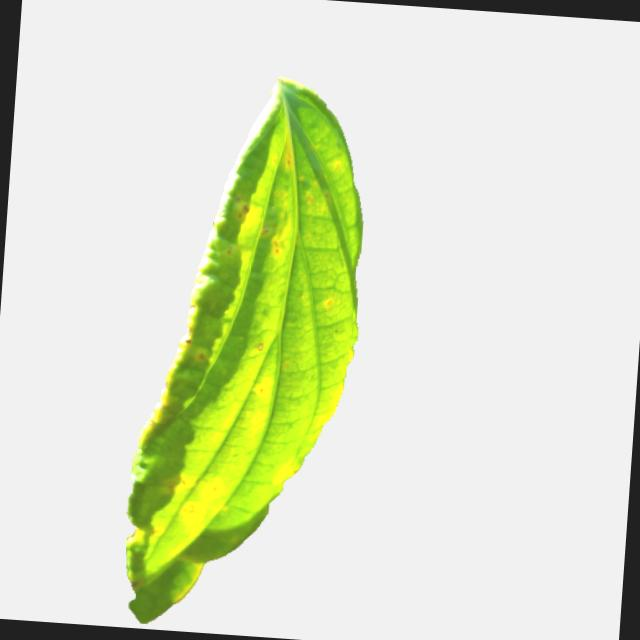yellow-mottle-virus: (120, 69, 378, 637)
